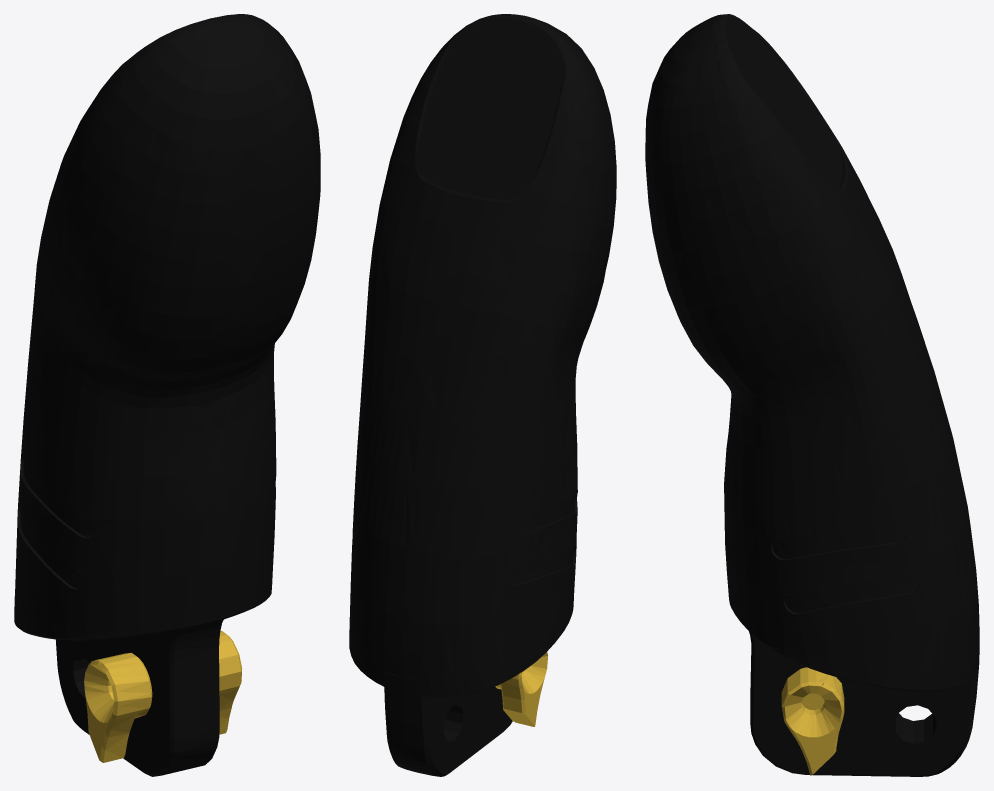
3 views of the same model, side by side, from view 1: azimuth 30°, elevation 25°; view 2: azimuth 150°, elevation 25°; view 3: azimuth 270°, elevation 25° (orthographic). The views are drawn at different scales.
Visible parts, largest first — view 1: Link5; view 2: Link5; view 3: Link5.
Boxes of the visible parts, bbox=[...] form: Link5: bbox=[14, 14, 320, 776]; Link5: bbox=[349, 14, 616, 776]; Link5: bbox=[645, 14, 979, 776].
Size of the model in its own units: 0.0176 by 0.0572 by 0.0234.
